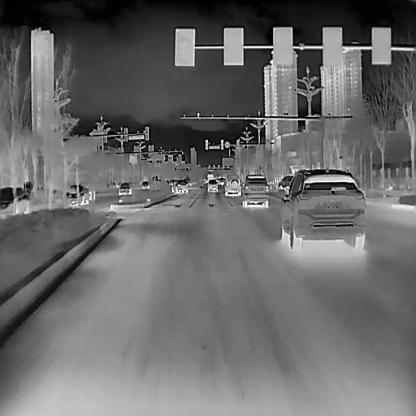car: (279, 168, 365, 250), (0, 184, 29, 218), (240, 173, 268, 206), (65, 184, 95, 204), (224, 174, 241, 196), (170, 179, 188, 194), (277, 174, 292, 189), (117, 182, 131, 197), (206, 178, 216, 192), (140, 180, 150, 190)
